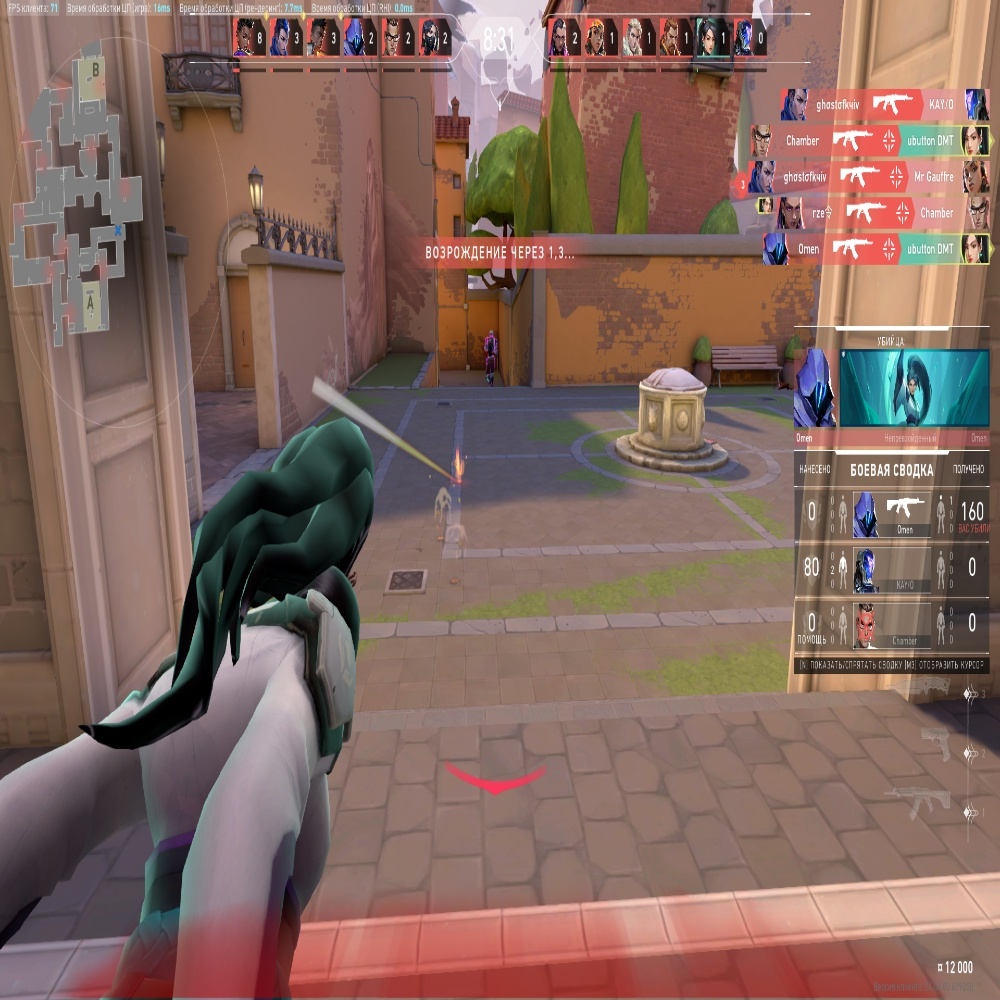body: (484, 338, 496, 357)
head: (489, 330, 493, 336)
